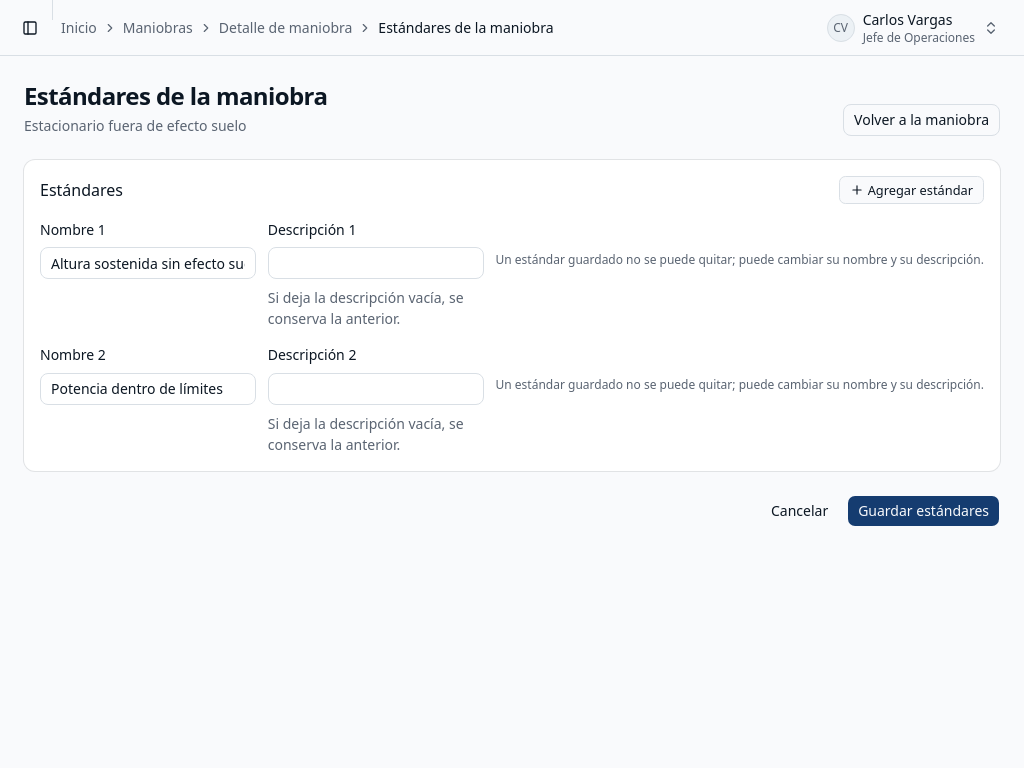
it: Estándares de la maniobra › CA-EST-03 un estándar guardado no se puede quitar y avisa sobre la descripción
The image size is (1024, 768).
Expected: the heading "Estándares de la maniobra" is shown, [24, 80, 327, 112]
Expected: the text "Un estándar guardado no se puede quitar; puede cambiar su nombre y su descripción." is shown 2 times, [496, 252, 984, 268]; [496, 377, 984, 393]
Step 1. Click the button "Agregar estándar" → (911,190), box [839, 176, 984, 204]
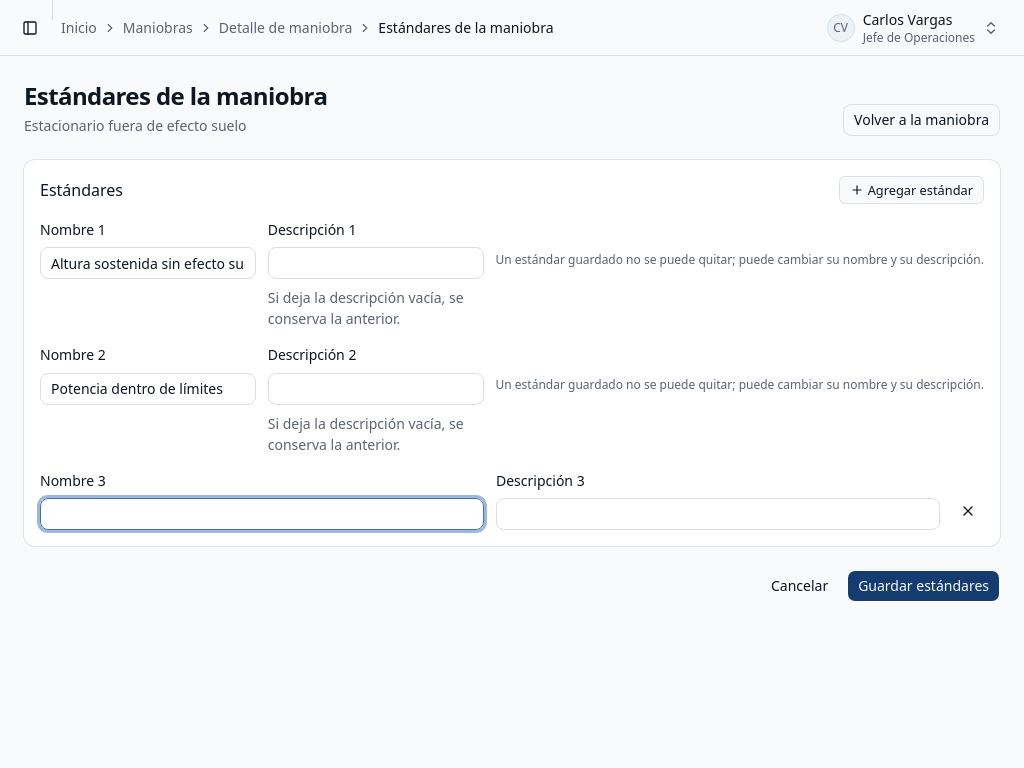
Result: the button named "Quitar estándar 3" is shown
Step 2. Click the button named "Quitar estándar 3" → (968,510), box [952, 494, 984, 526]
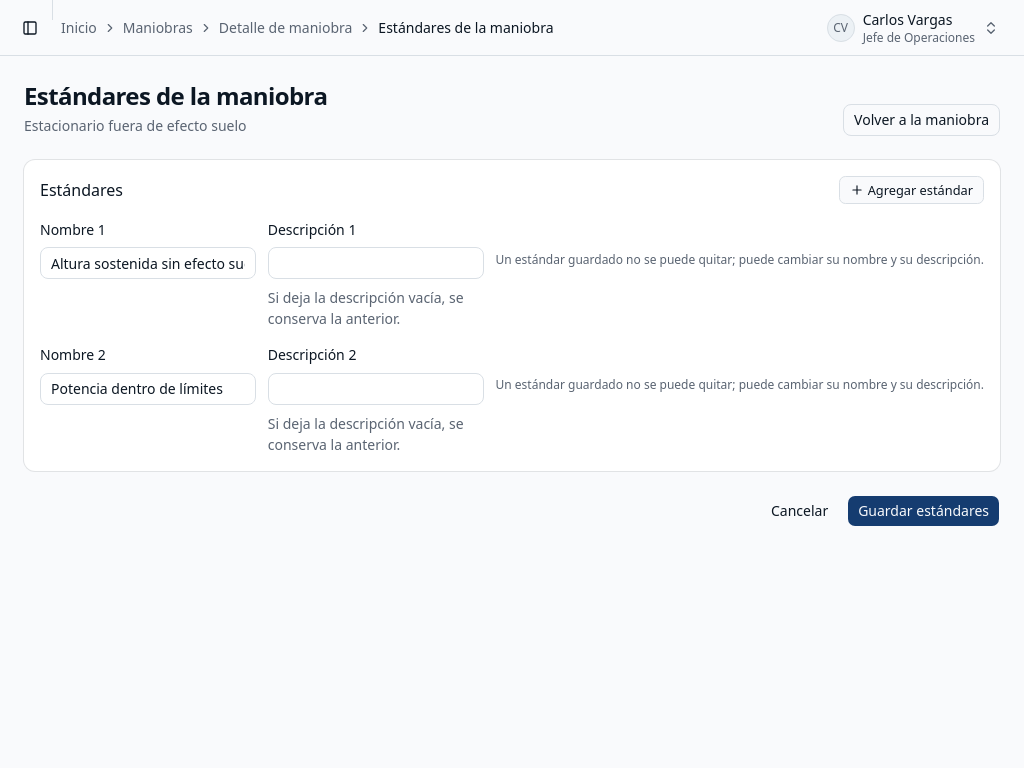
Result: the label labelled "Nombre 3" is gone
